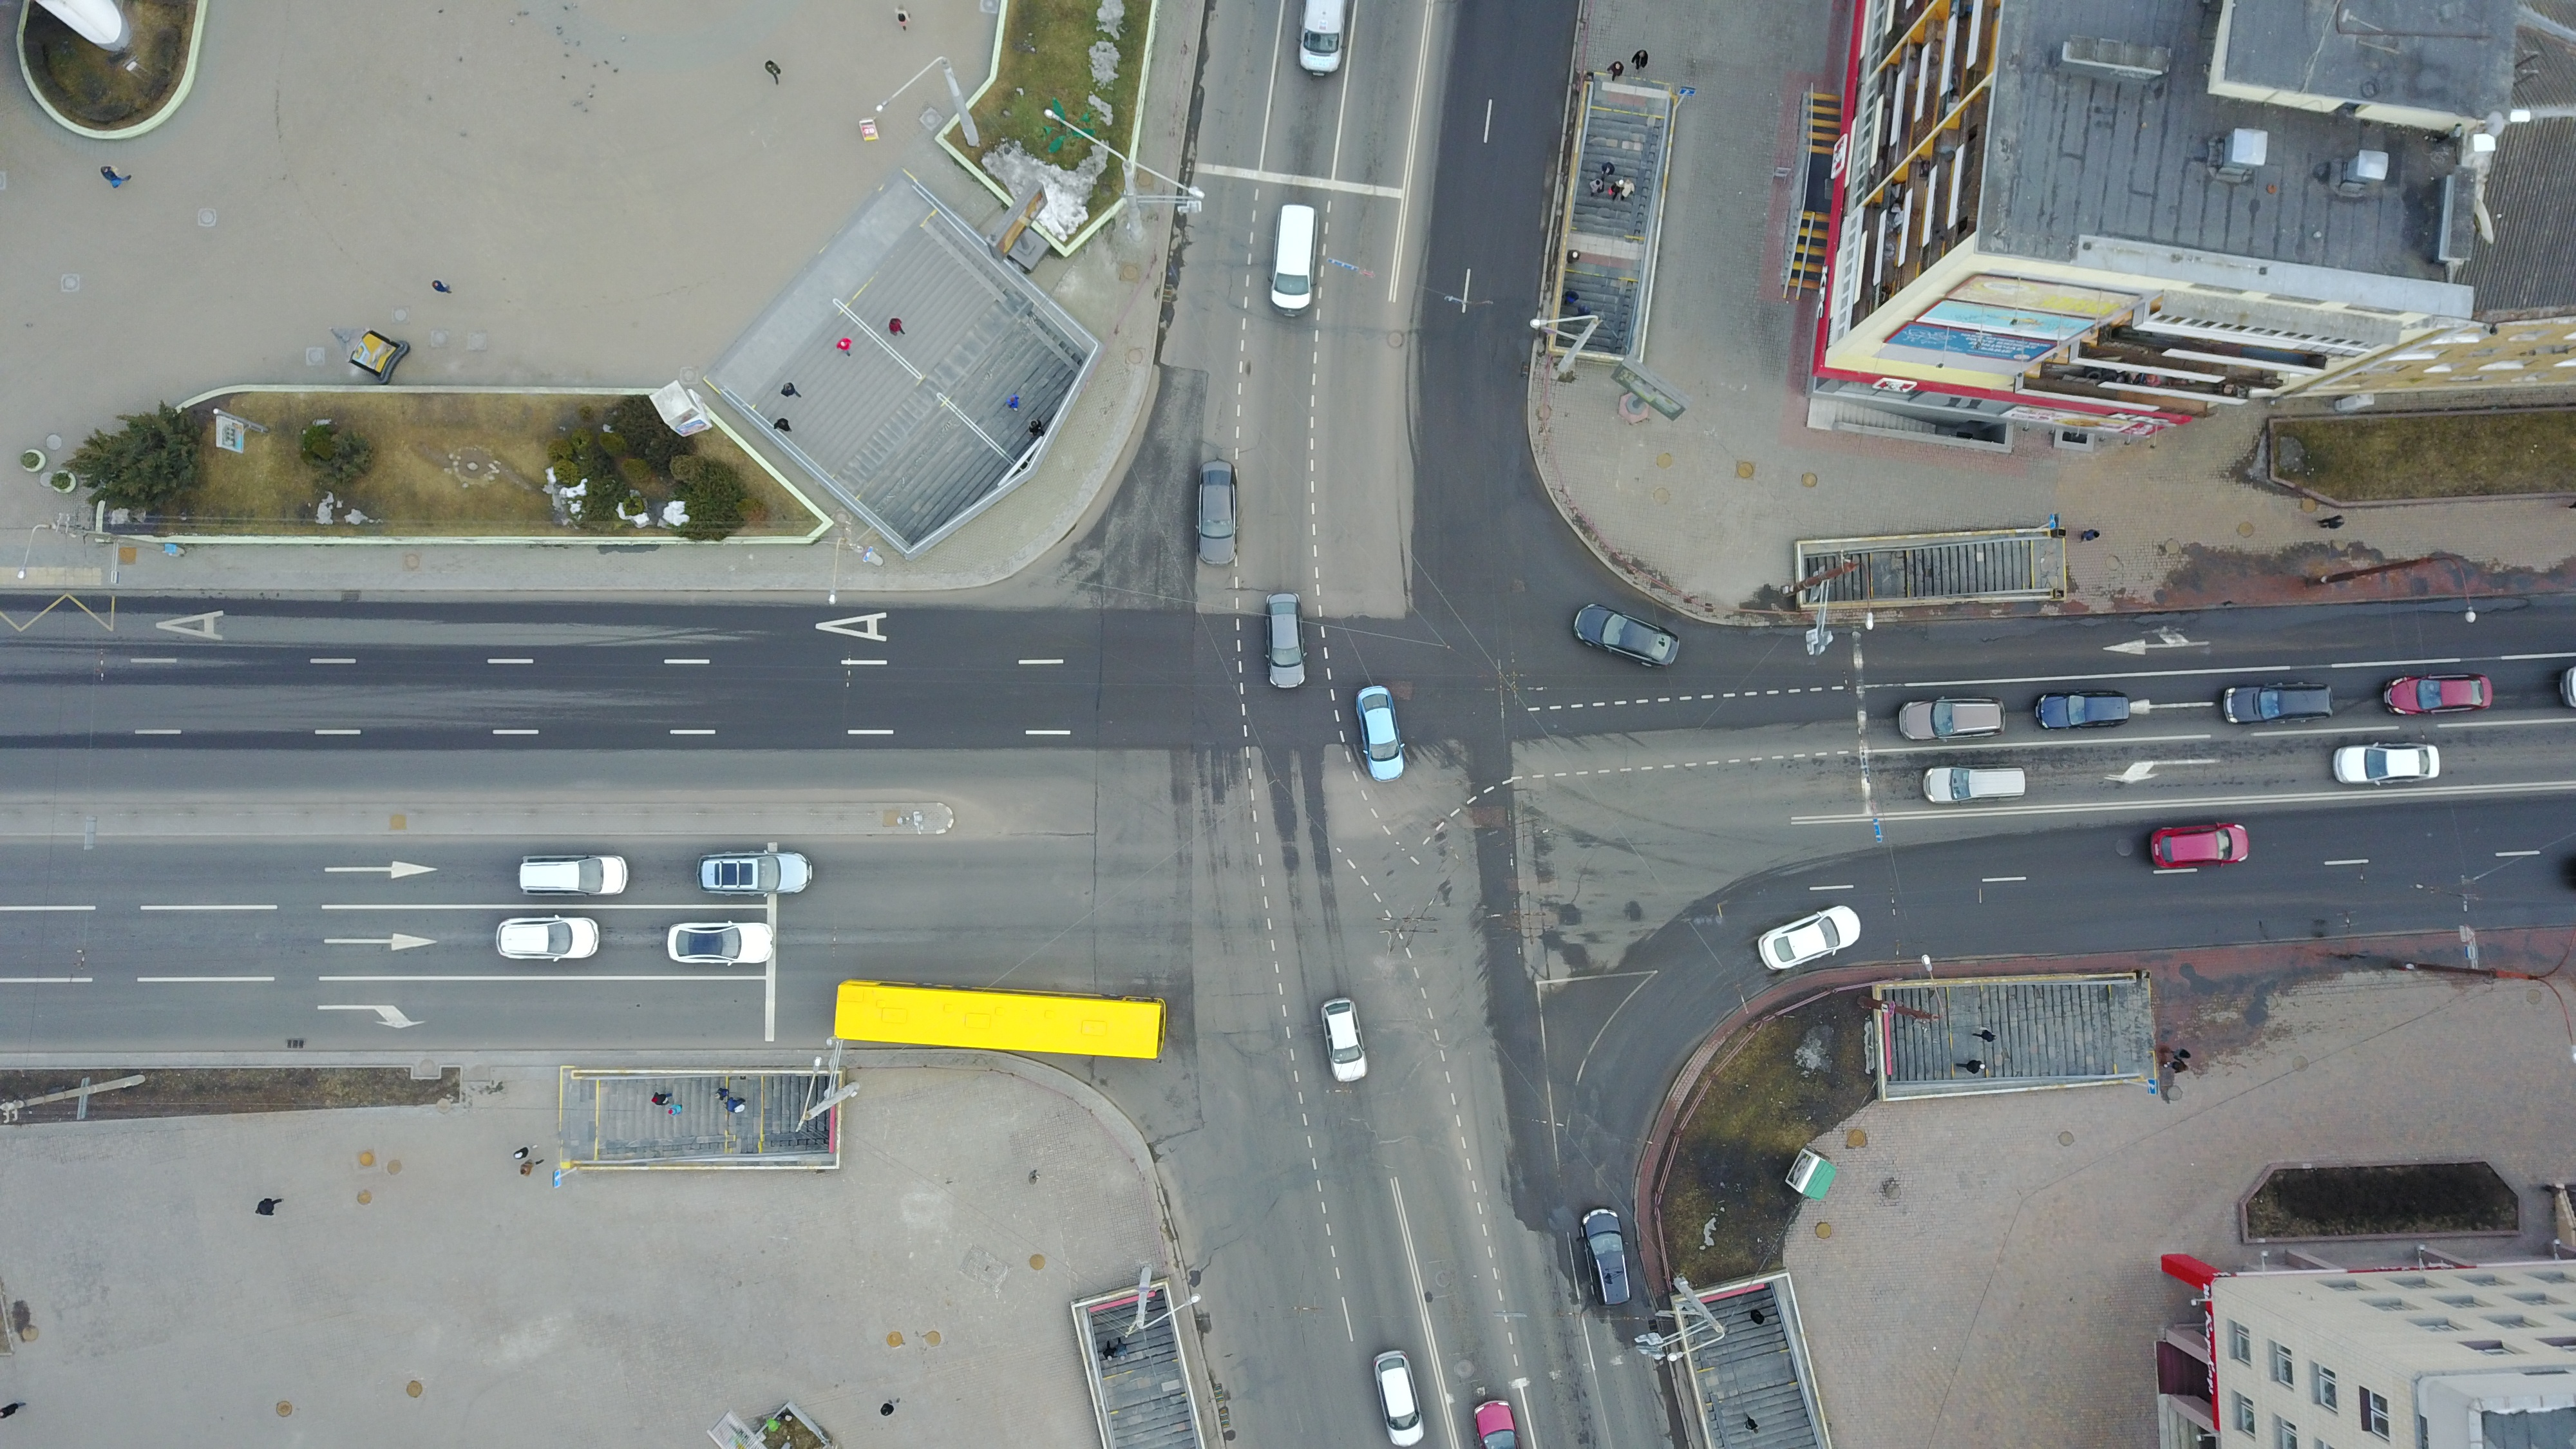car: (1750, 902, 1865, 978), (1562, 598, 1683, 671), (695, 844, 816, 902), (1187, 453, 1244, 573), (1575, 1203, 1638, 1309), (665, 916, 778, 975), (517, 847, 632, 901), (1369, 1346, 1428, 1449), (2376, 671, 2495, 720), (2220, 678, 2334, 729), (1353, 679, 1407, 786), (2330, 741, 2445, 789), (495, 913, 602, 964), (1895, 694, 2005, 743), (2148, 821, 2254, 870), (1258, 591, 1309, 690), (1320, 991, 1371, 1086), (1923, 764, 2028, 809), (2033, 688, 2132, 734)
